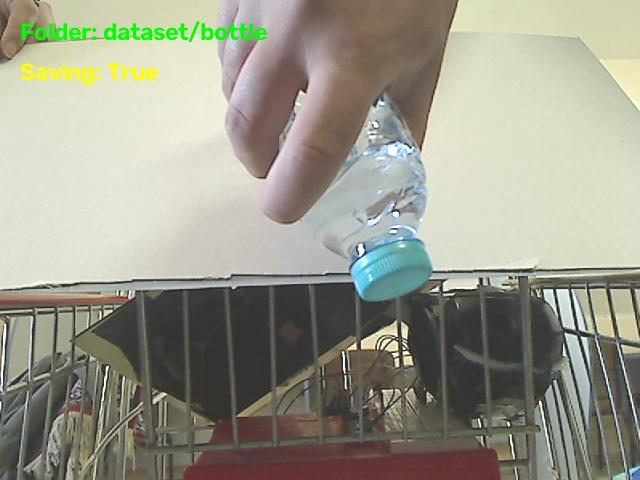Bottle: (303, 94, 432, 300)
